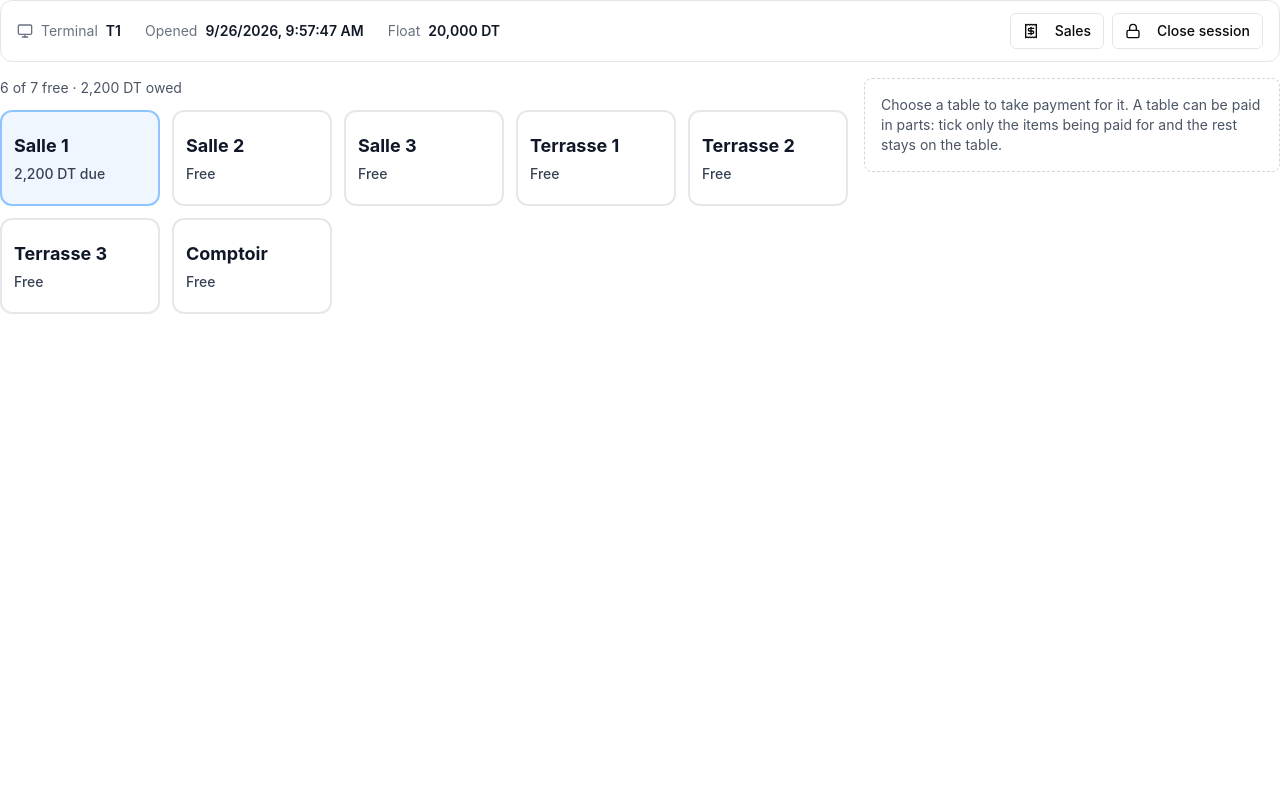
paying a table › takes a line discount only with a reason, and takes it off the total
This screenshot has width=1280, height=800.
Click the button "Salle 1 2,200 DT due" at (80, 158), box [0, 110, 160, 206]
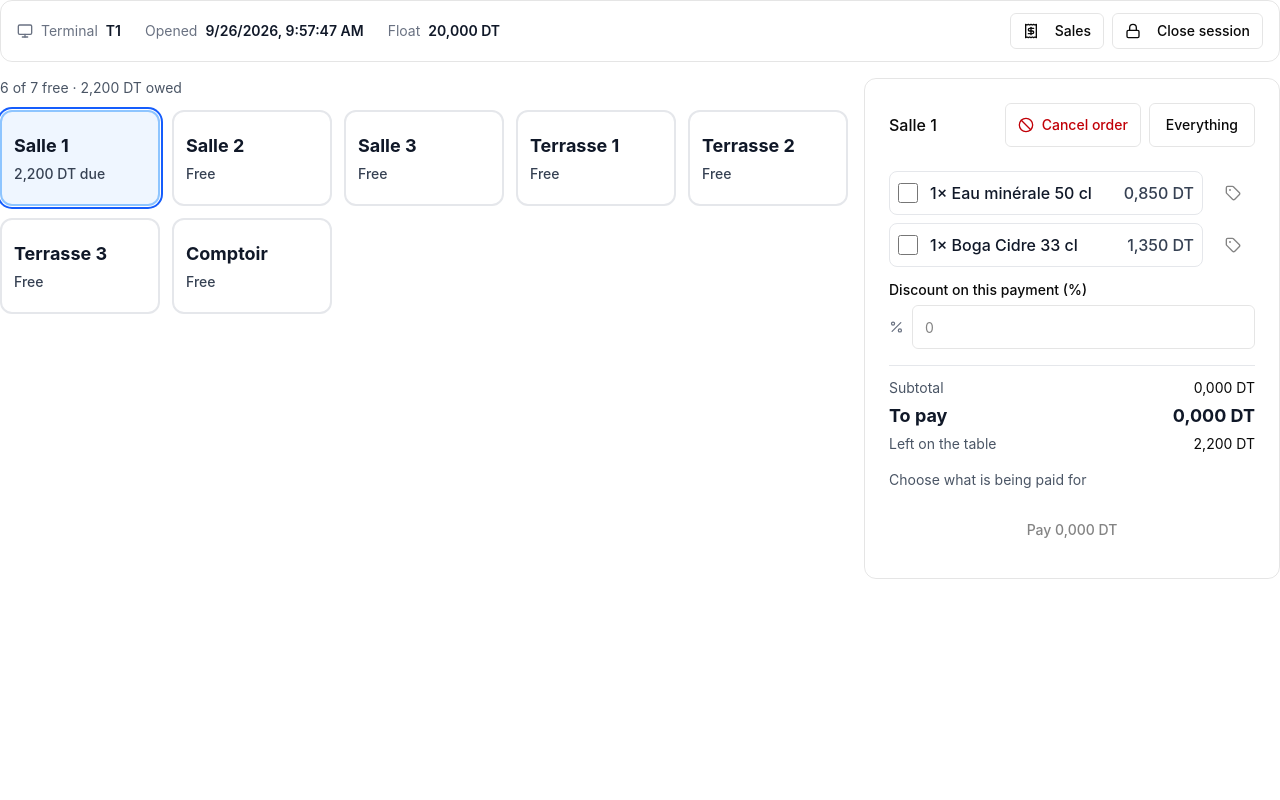
Click the checkbox labelled "1× Eau minérale 50 cl 0,850 DT" at (908, 193), box [898, 183, 918, 203]
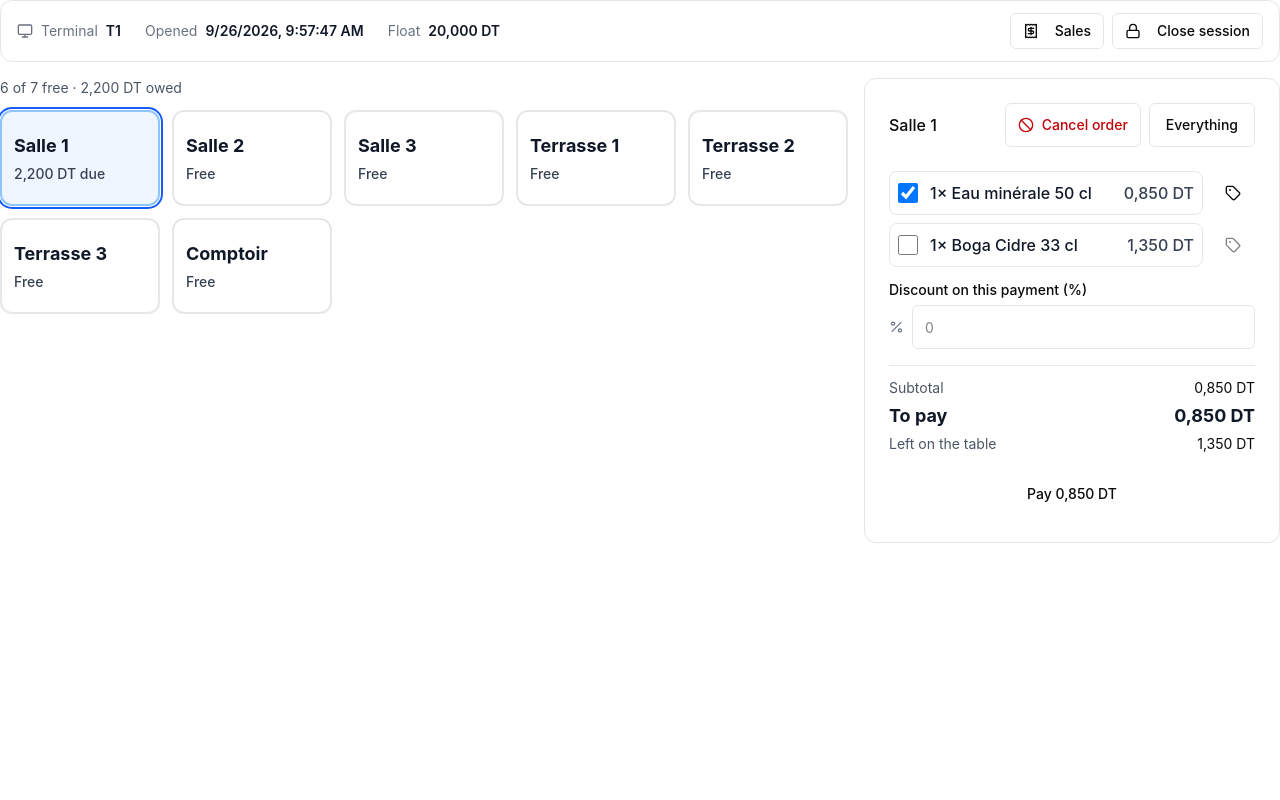
Click the button named "Discount Eau minérale 50 cl" at (1233, 193), box [1211, 171, 1255, 215]
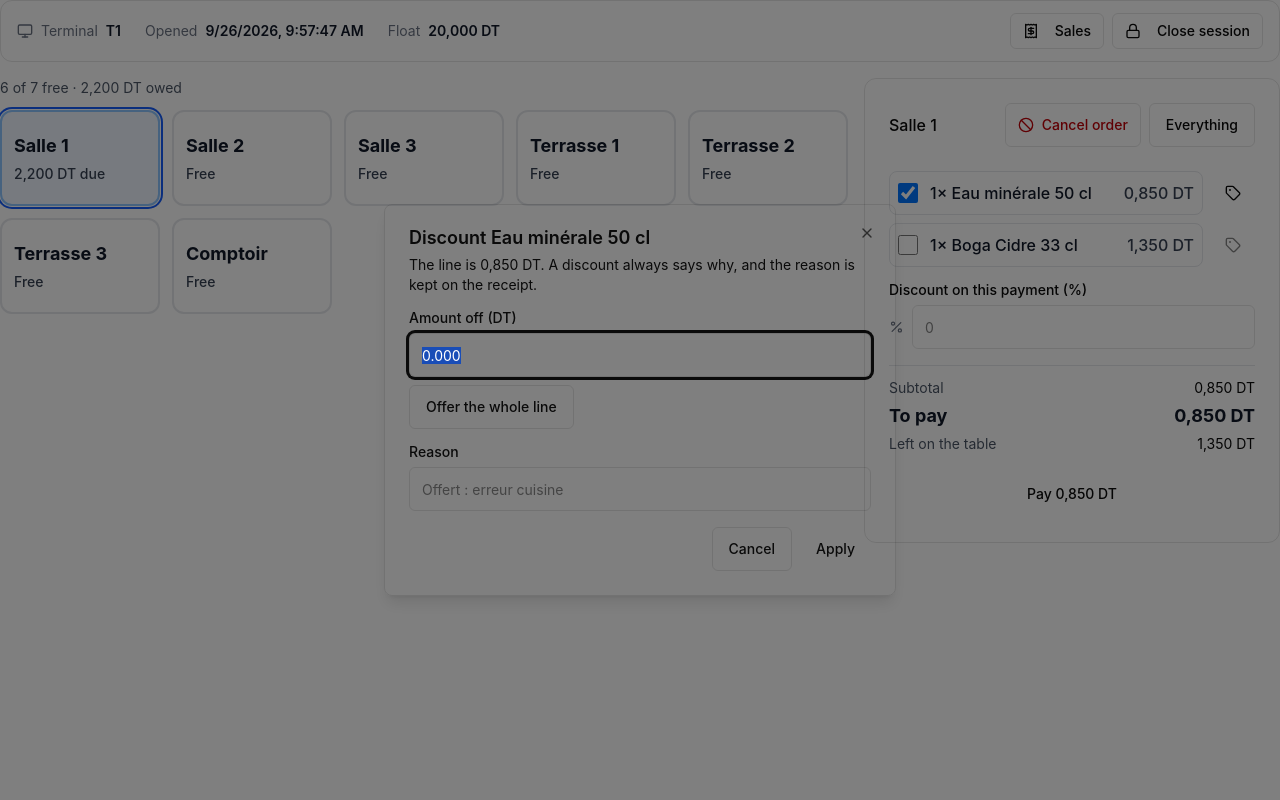
Click the button "Offer the whole line" at (491, 407), box [409, 385, 574, 429]
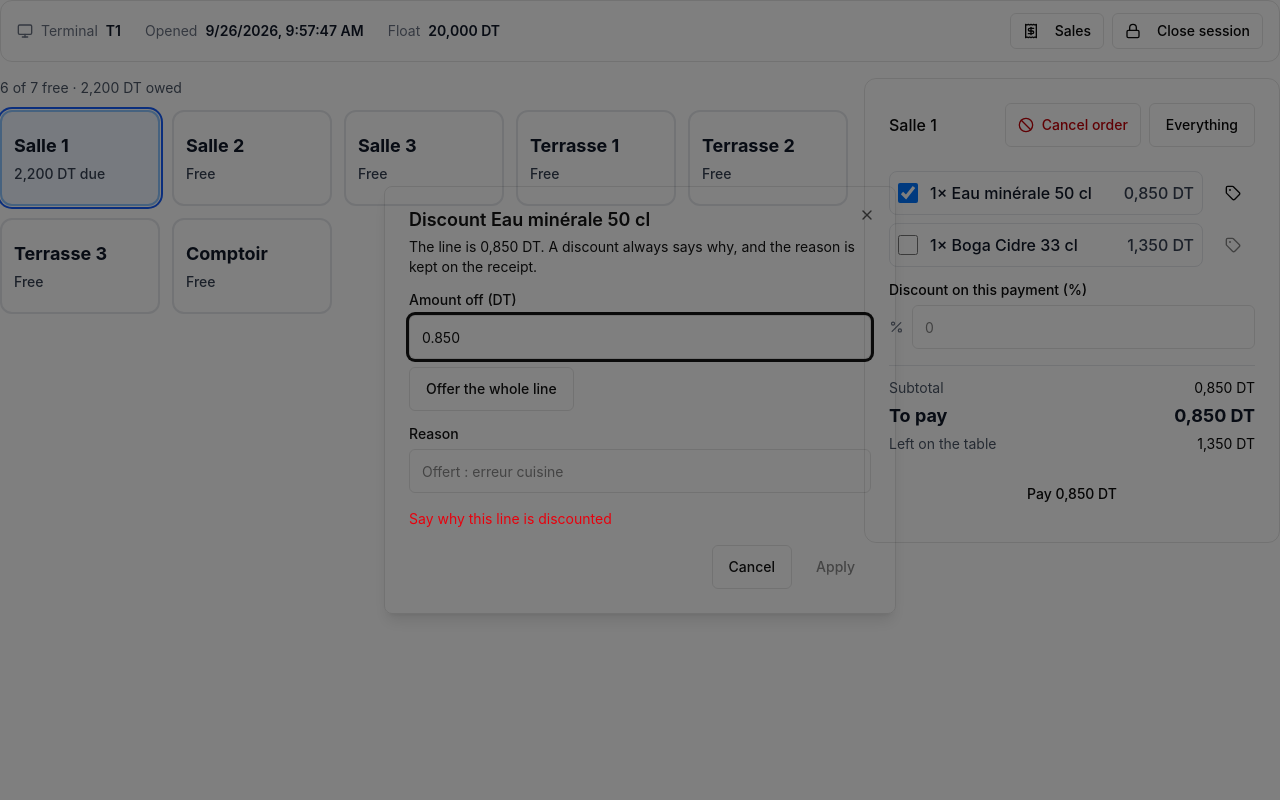
Expected: the text "Say why this line is discounted" is shown, [409, 510, 612, 527]
Expected: the button "Apply" is disabled, [800, 545, 871, 589]
Type "erreur cuisine" into the field labelled "Reason" at (640, 471), box [409, 449, 871, 493]
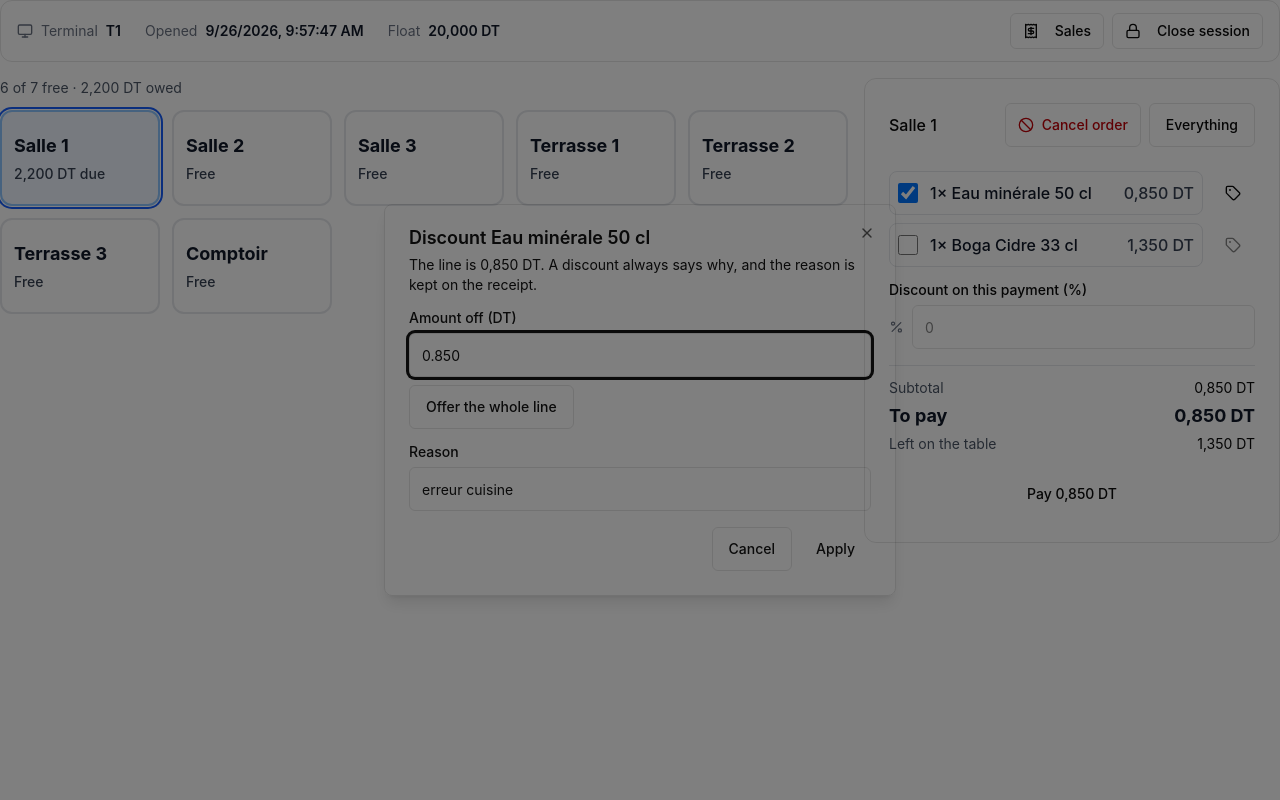
Click the button "Apply" at (836, 549), box [800, 527, 871, 571]
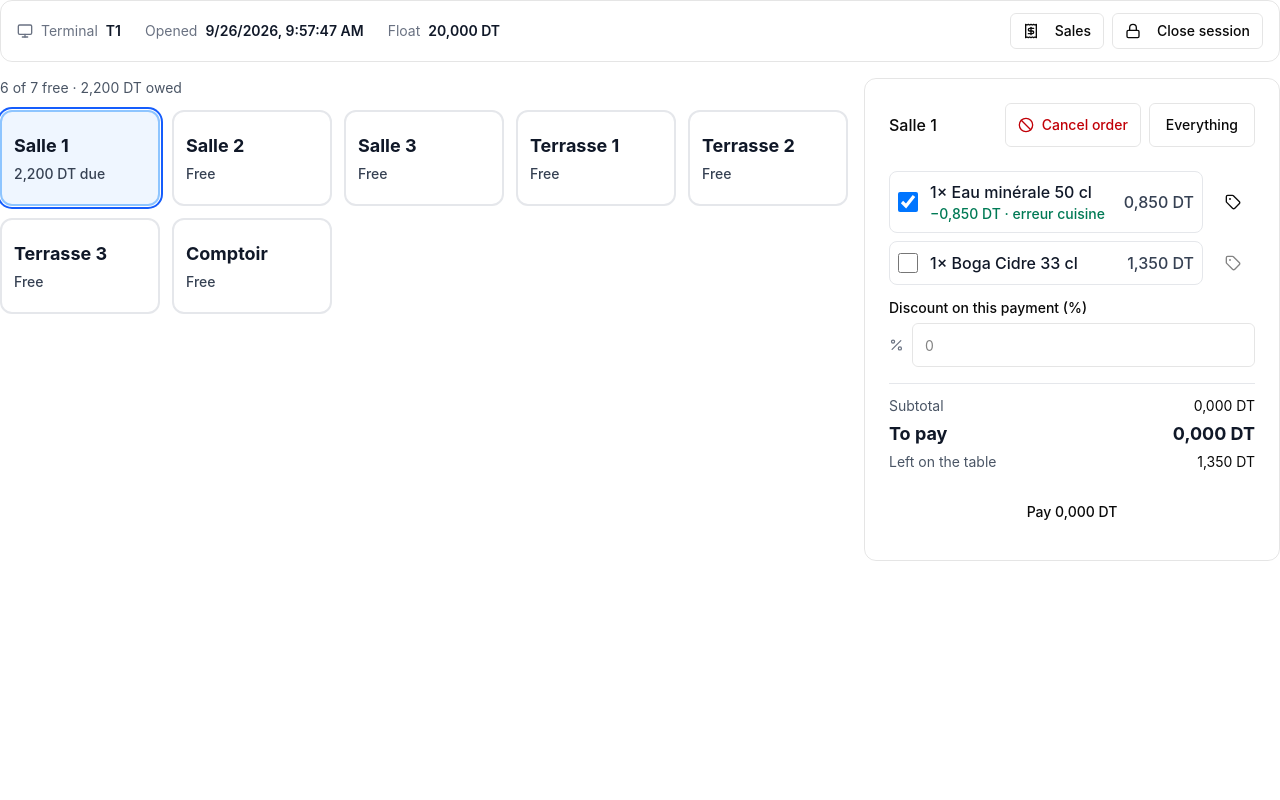
Expected: the dialog is gone
Expected: the text "−0,850 DT · erreur cuisine" is shown, [930, 204, 1112, 224]
